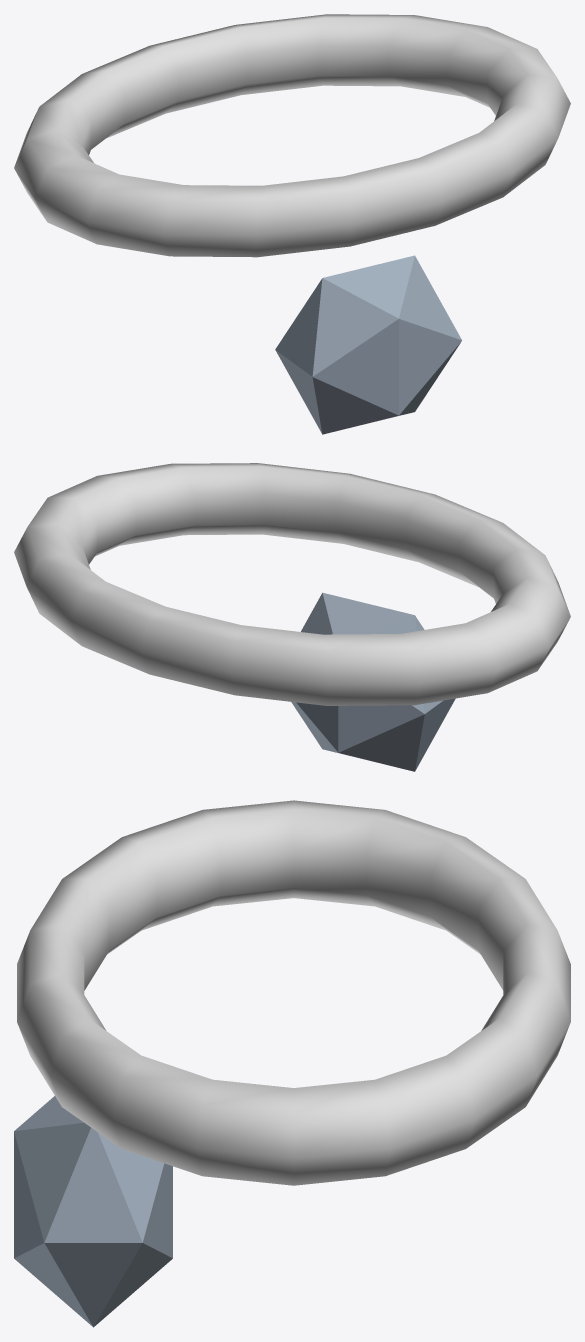
File: wearable.glb
3 renders of one model, top to bottom at view 1: azimuth 30°, elevation 25°; view 2: azimuth 150°, elevation 25°; view 3: azimuth 270°, elevation 25°, orthographic. The views are drawn at different scales.
Parts seen in each view (by area): view 1: wearable_band, wearable_charm; view 2: wearable_band, wearable_charm; view 3: wearable_band, wearable_charm.
Part boxes in pixels (x1,y1,x2,y2): wearable_band: (14,14,570,257); wearable_charm: (275,255,461,434); wearable_band: (14,463,570,705); wearable_charm: (291,592,455,771); wearable_band: (17,800,570,1185); wearable_charm: (14,1096,172,1327).
Size of the model in its own units: 0.702 by 0.3459 by 0.5003.
